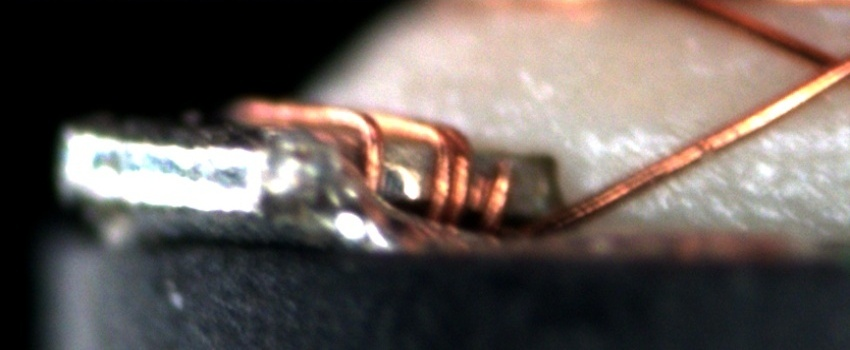CL: (795, 40, 849, 100)
DL: (620, 116, 849, 180)
TE: (229, 96, 532, 240)
